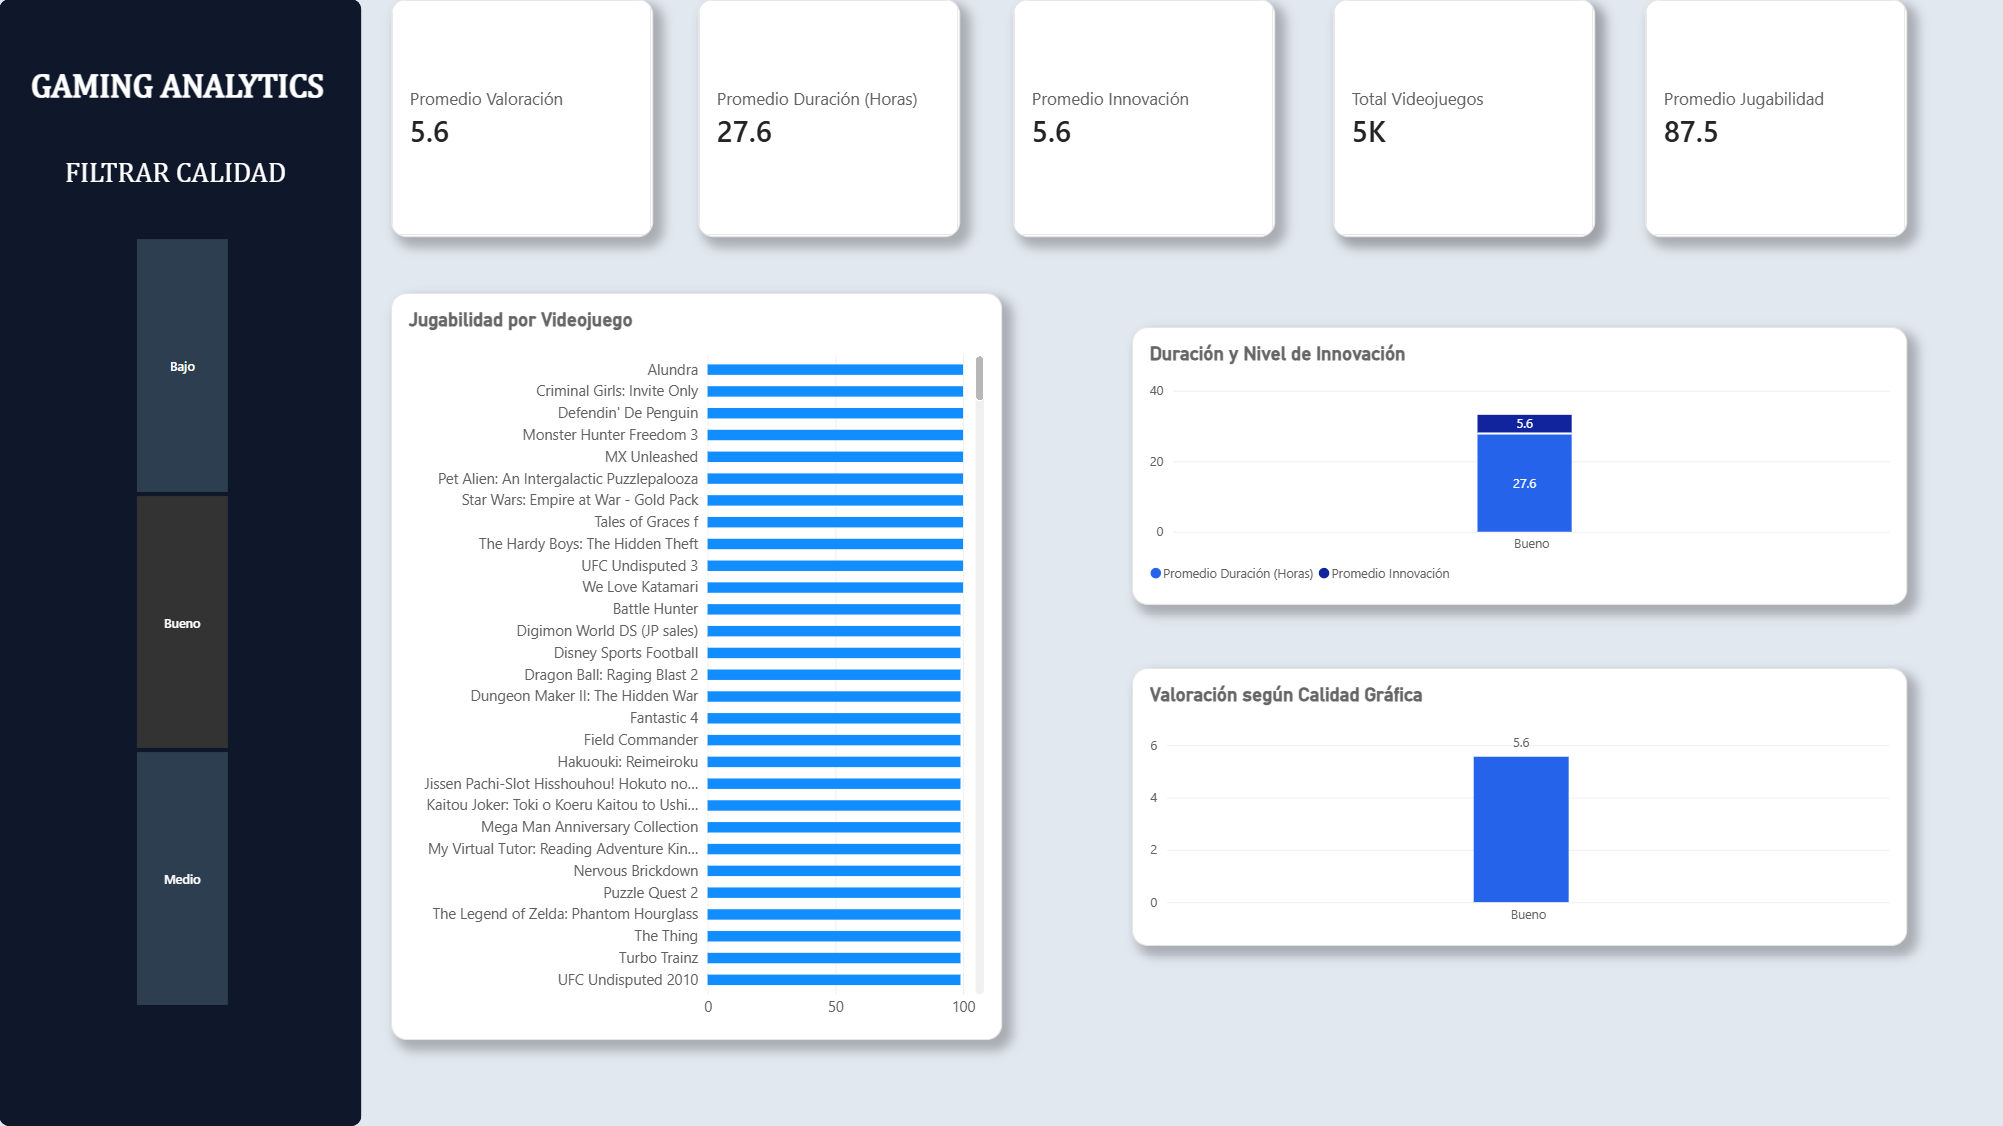

The dashboard page shown, as its layout file describes it:
{"tool":"powerbi","page":{"name":"Page 1","canvas":[1920,1080],"ordinal":0},"visuals":[{"type":"shape","box":[0,0,347,1079.1],"z":0},{"type":"cardVisual","fields":{"Data":["_Medidas.Total Videojuegos"]},"box":[1276.6,0,250.8,228],"z":1000},{"type":"cardVisual","fields":{"Data":["_Medidas.Promedio Valoración"]},"box":[374.9,0,250.8,228],"z":2000},{"type":"cardVisual","fields":{"Data":["_Medidas.Promedio Jugabilidad"]},"box":[1575.5,0,250.8,228],"z":3000},{"type":"cardVisual","fields":{"Data":["_Medidas.Promedio Duración (Horas)"]},"box":[668.7,0,250.8,228],"z":4000},{"type":"cardVisual","fields":{"Data":["_Medidas.Promedio Innovación"]},"box":[970.1,0,250.8,228],"z":5000},{"type":"clusteredColumnChart","title":"Valoración según Calidad Gráfica","fields":{"Category":["Hoja1.Calidad grafica"],"Y":["_Medidas.Promedio Valoración"]},"box":[1084.4,640.3,741.8,266.1],"z":6000},{"type":"clusteredBarChart","title":"Jugabilidad por Videojuego","fields":{"Category":["Hoja1.Nombre"],"Y":["_Medidas.Promedio Jugabilidad"]},"box":[375.5,281.6,584.5,715.2],"z":7000},{"type":"columnChart","title":"Duración y Nivel de Innovación","fields":{"Category":["Hoja1.Calidad grafica"],"Y":["_Medidas.Promedio Duración (Horas)","_Medidas.Promedio Innovación"]},"box":[1084.4,313.9,742.2,266],"z":8000},{"type":"slicer","fields":{"Values":["Hoja1.Calidad grafica"]},"box":[111.5,228,126.6,737.1],"z":9000},{"type":"textbox","box":[30.4,65.9,288.8,48.1],"z":10000},{"type":"textbox","box":[63.3,152,222.9,38],"z":10001}]}

Visuals, with their boxes in screenshot pixels (x1, y1, x2, y2), scaled from the page's 1920x1080 canvas onto the 2003x1126 screenshot:
shape: x1=0, y1=0, x2=362, y2=1125
cardVisual - _Medidas.Total Videojuegos: x1=1332, y1=0, x2=1593, y2=238
cardVisual - _Medidas.Promedio Valoración: x1=391, y1=0, x2=653, y2=238
cardVisual - _Medidas.Promedio Jugabilidad: x1=1644, y1=0, x2=1905, y2=238
cardVisual - _Medidas.Promedio Duración (Horas): x1=698, y1=0, x2=959, y2=238
cardVisual - _Medidas.Promedio Innovación: x1=1012, y1=0, x2=1274, y2=238
"Valoración según Calidad Gráfica" clusteredColumnChart: x1=1131, y1=668, x2=1905, y2=945
"Jugabilidad por Videojuego" clusteredBarChart: x1=392, y1=294, x2=1002, y2=1039
"Duración y Nivel de Innovación" columnChart: x1=1131, y1=327, x2=1906, y2=605
slicer - Hoja1.Calidad grafica: x1=116, y1=238, x2=248, y2=1006
textbox: x1=32, y1=69, x2=333, y2=119
textbox: x1=66, y1=158, x2=299, y2=198
